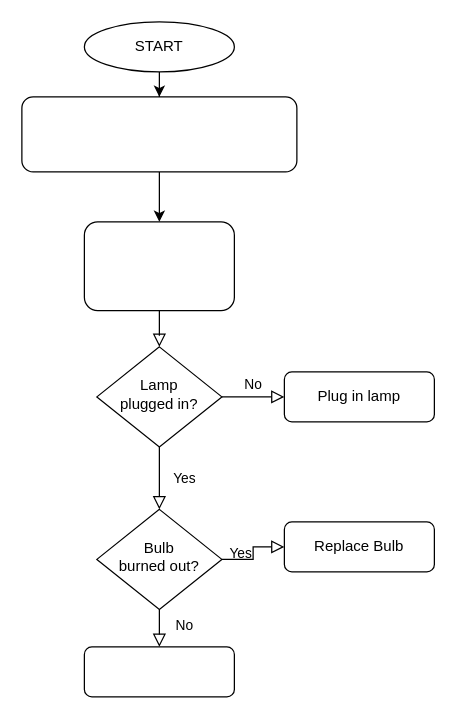
Some shapes in this 456 by 719 pixel diagram are drawn without their labels. The shapes that lost their labels are listed below. From the top down, each one's box as (x1, y1, x2, y2) in pixels, then its label:
(21, 96, 297, 172): NUMBER < --- '2', '1', '9', '8', '9', '1', '3', '8'
(83, 221, 234, 311): AX < --- 0700h DS < --- AX AX < --- 0700h AX < --- 0700h
(83, 646, 234, 697): Repair Lamp
